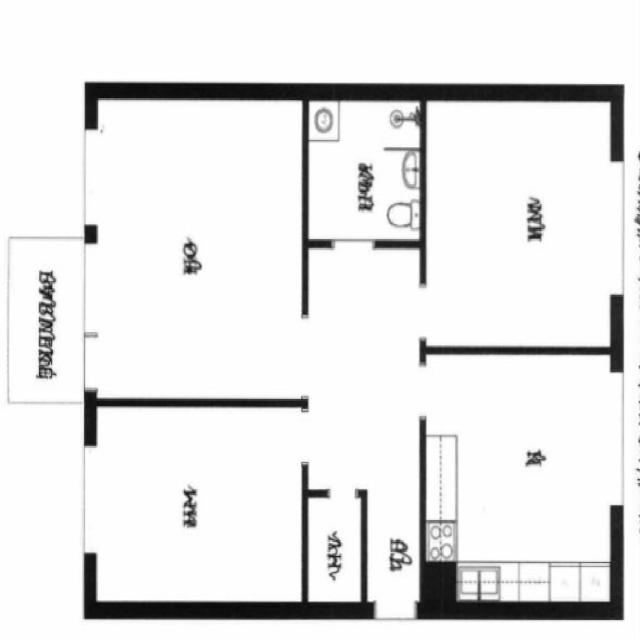door: (369, 591, 421, 635)
window: (305, 490, 364, 611), (602, 154, 636, 308), (602, 362, 634, 517), (73, 435, 101, 563), (74, 121, 102, 235), (76, 235, 98, 341), (368, 590, 422, 632), (76, 332, 102, 399), (325, 232, 382, 260), (414, 272, 434, 350), (319, 479, 362, 505)
zone: (87, 90, 303, 410), (425, 350, 623, 609), (422, 93, 621, 350), (85, 403, 304, 611), (302, 93, 426, 244), (304, 490, 365, 609)
